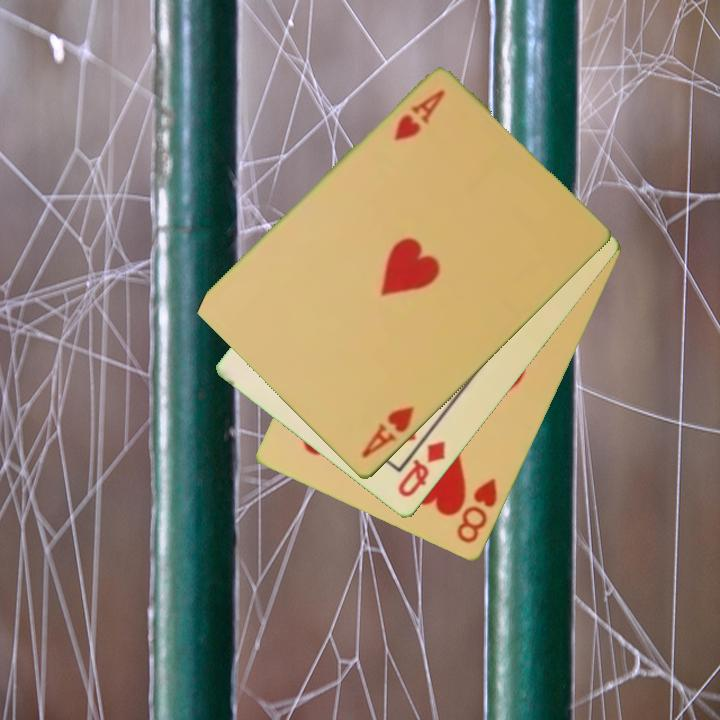8h: (453, 475, 501, 547)
Ah: (358, 403, 418, 462), (390, 86, 448, 145)
Qd: (394, 437, 449, 501)
